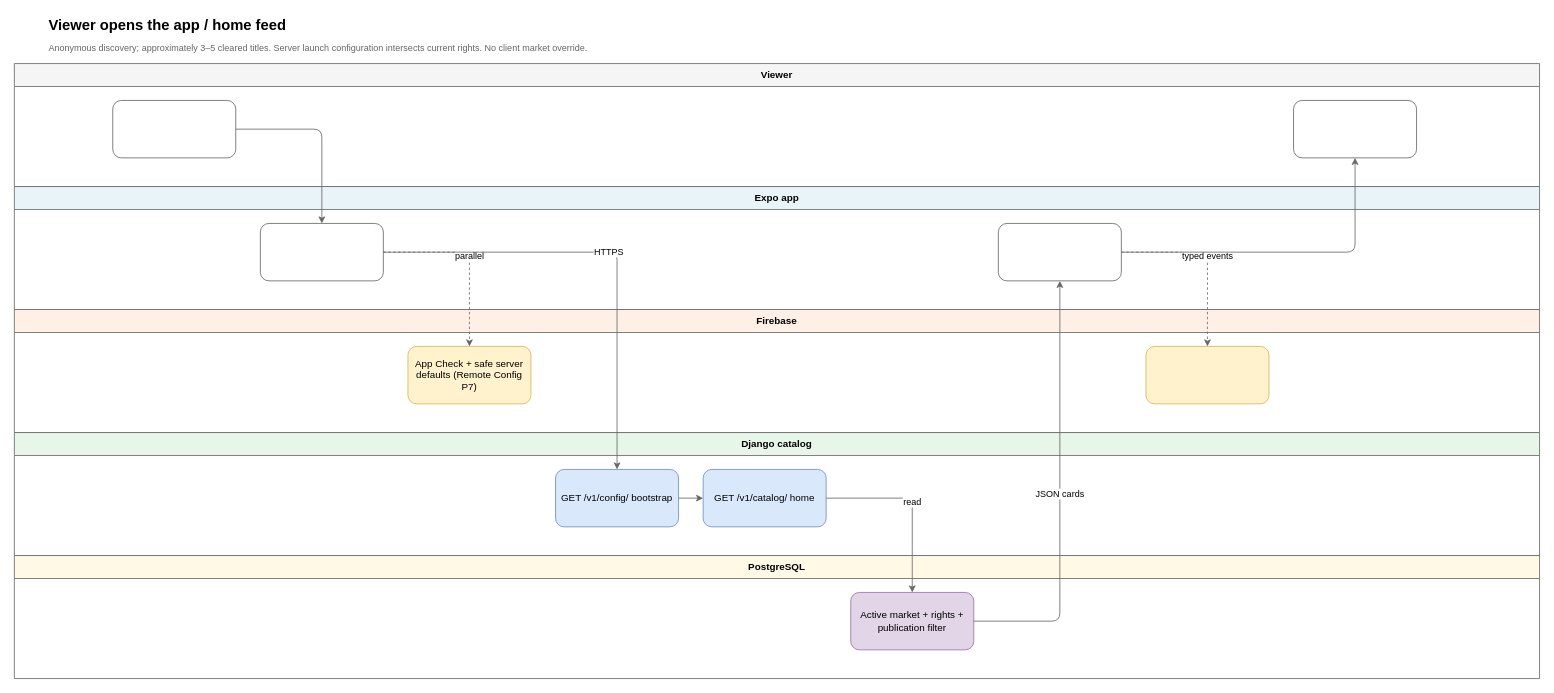
Some shapes in this 1554 by 693 pixel diagram are drawn without their labels. The centre of each missing label's shape, as x and y in pixels:
Cold start Expo Router home: point 321,252
Governed consented discovery measurement (planned): point 1207,375
Open app or deep link: point 174,129
Render eligible series rail: point 1059,252
See catalog no account required: point 1355,129
